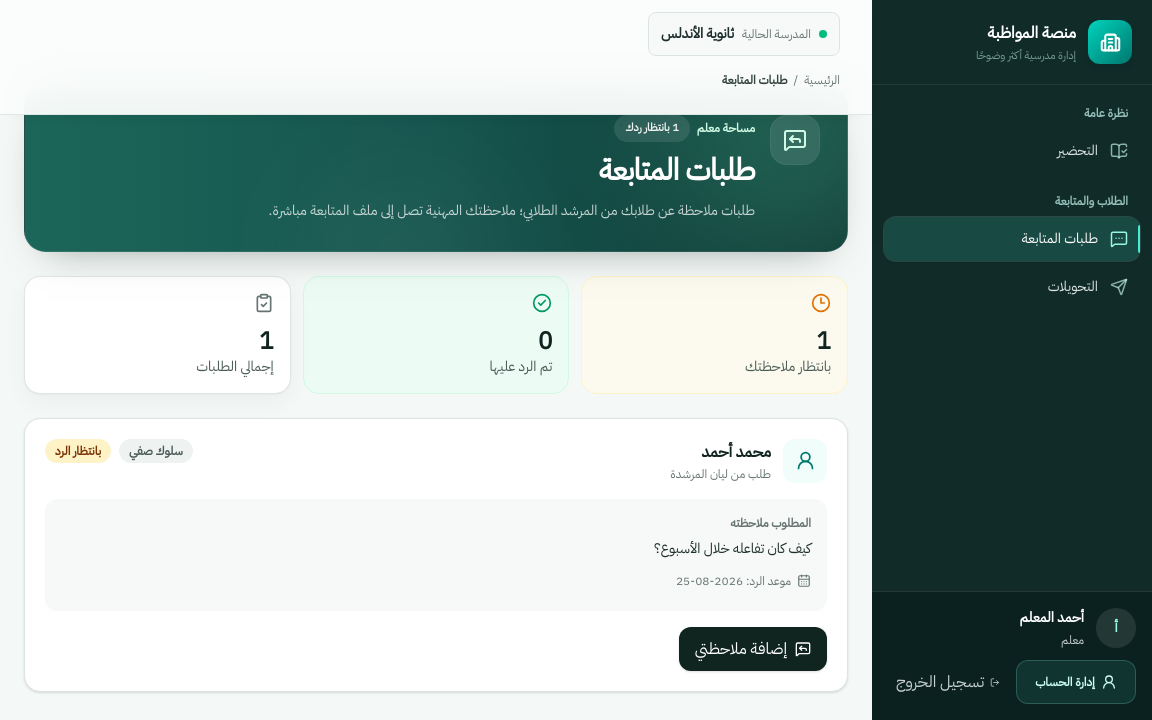
Test: teacher follow-up inbox (Phase 14) › lets the teacher cancel an unfinished response without sending it
(page scrolled)
Step 1. Click the button with test id "respond-41" → (753, 648), box left=679, top=626, right=827, bottom=670
(page scrolled)
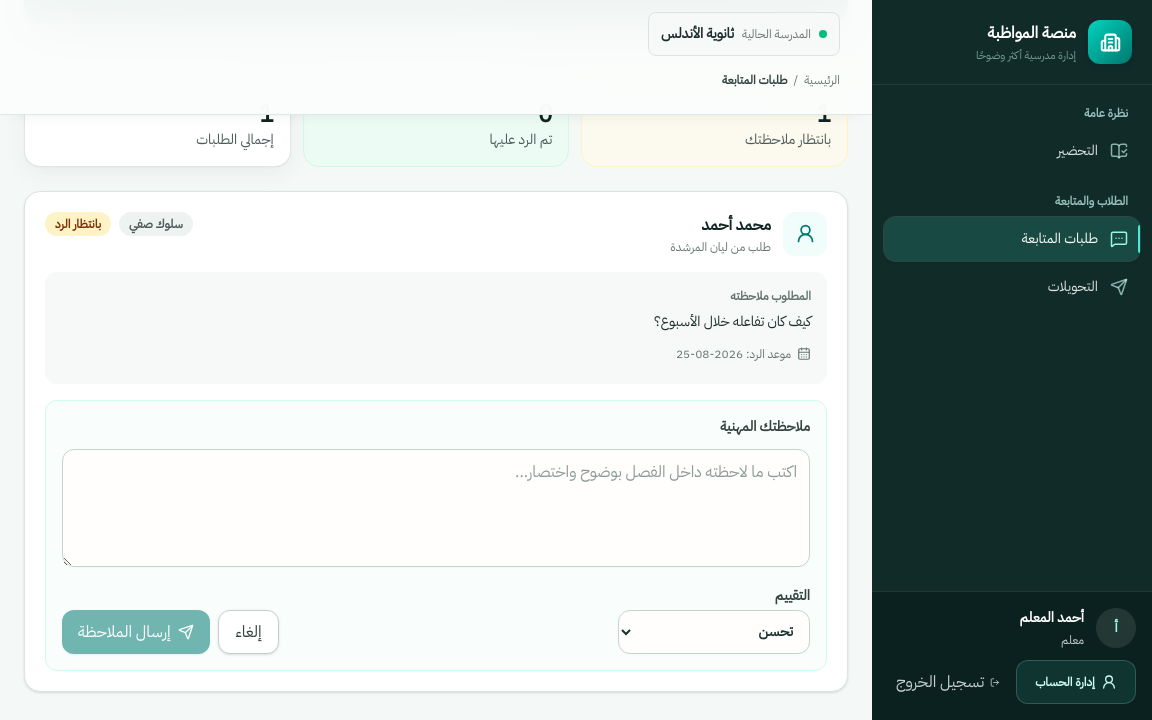
Step 2. Type "ملاحظة لم تكتمل" into the text box with test id "response-observation" → (436, 508), box left=62, top=448, right=810, bottom=566
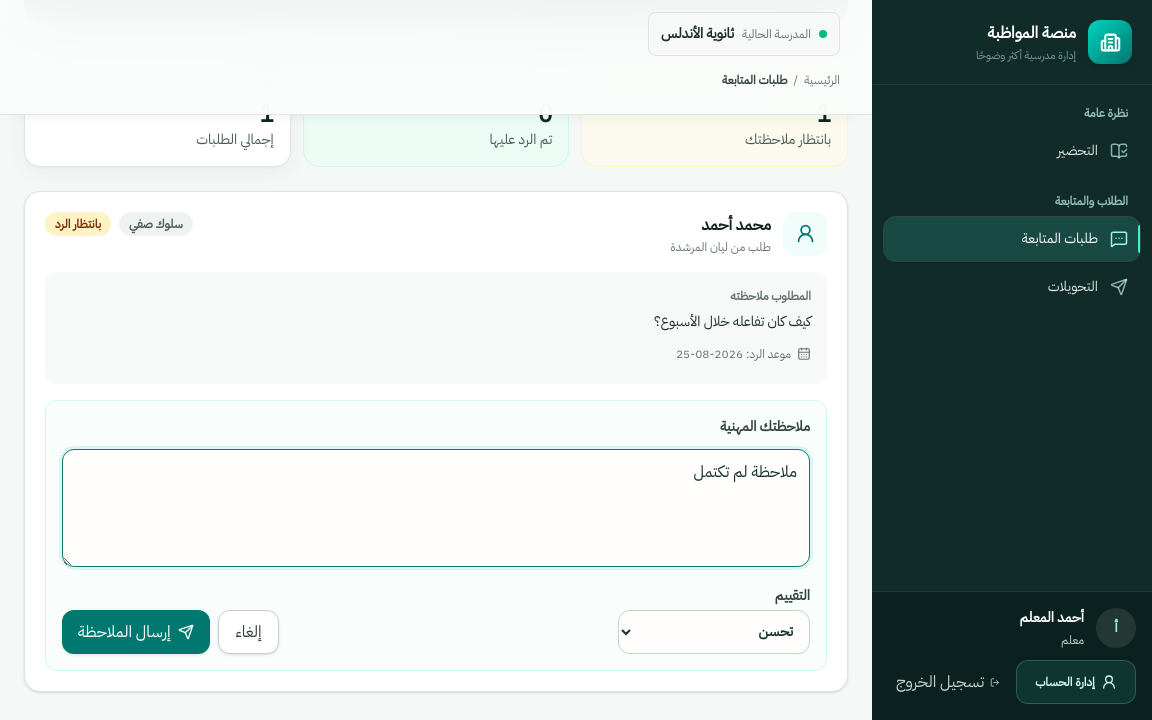
Step 3. Click the button with test id "cancel-response" → (249, 632), box left=218, top=610, right=279, bottom=654
(page scrolled)
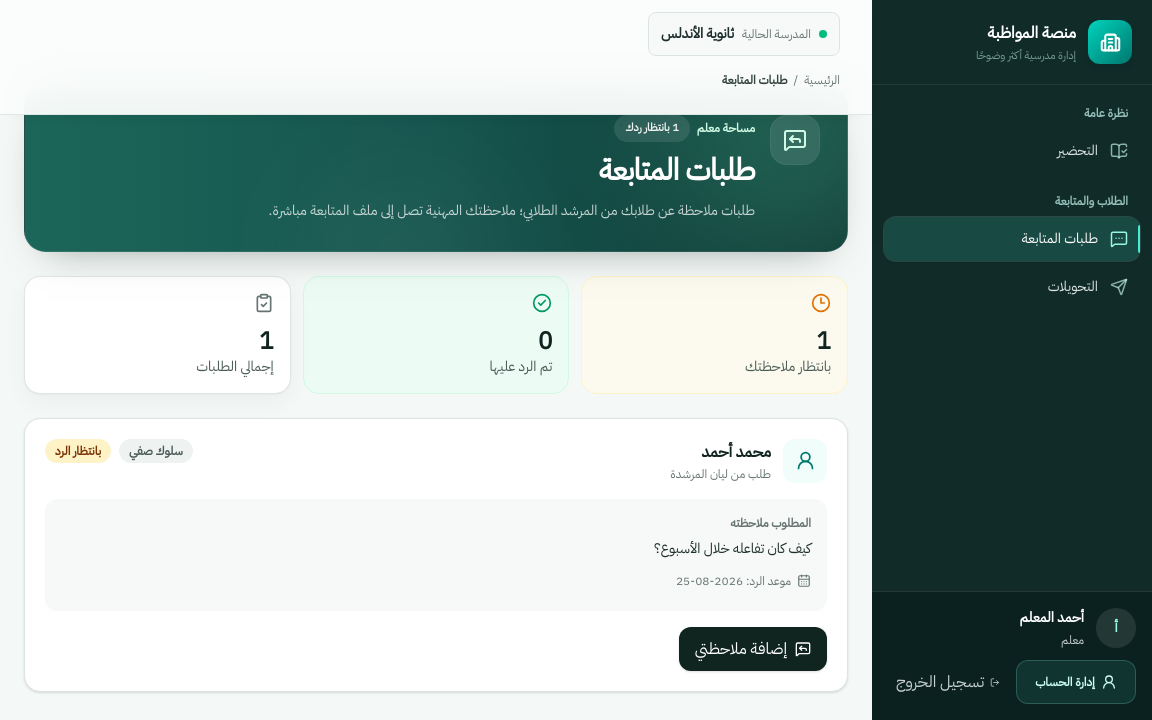
Check: the text box with test id "response-observation" is gone
Check: the button with test id "respond-41" is shown, box left=679, top=626, right=827, bottom=670
